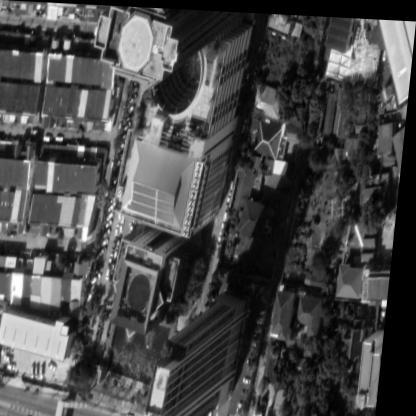solar-pv-panel: (131, 181, 178, 221)
